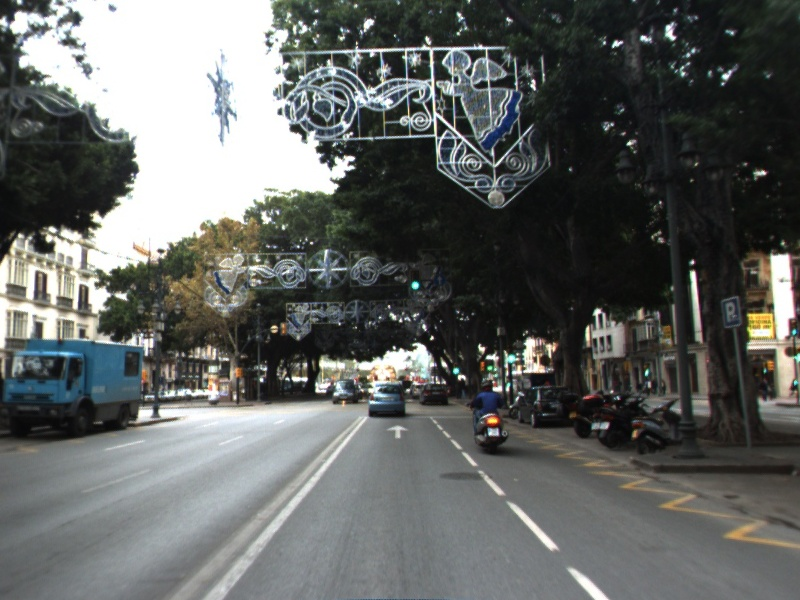STRAIGHT: (384, 422, 411, 440)
